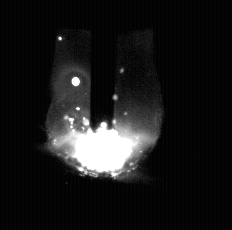arame: (90, 0, 115, 133)
poca: (47, 0, 161, 230)
